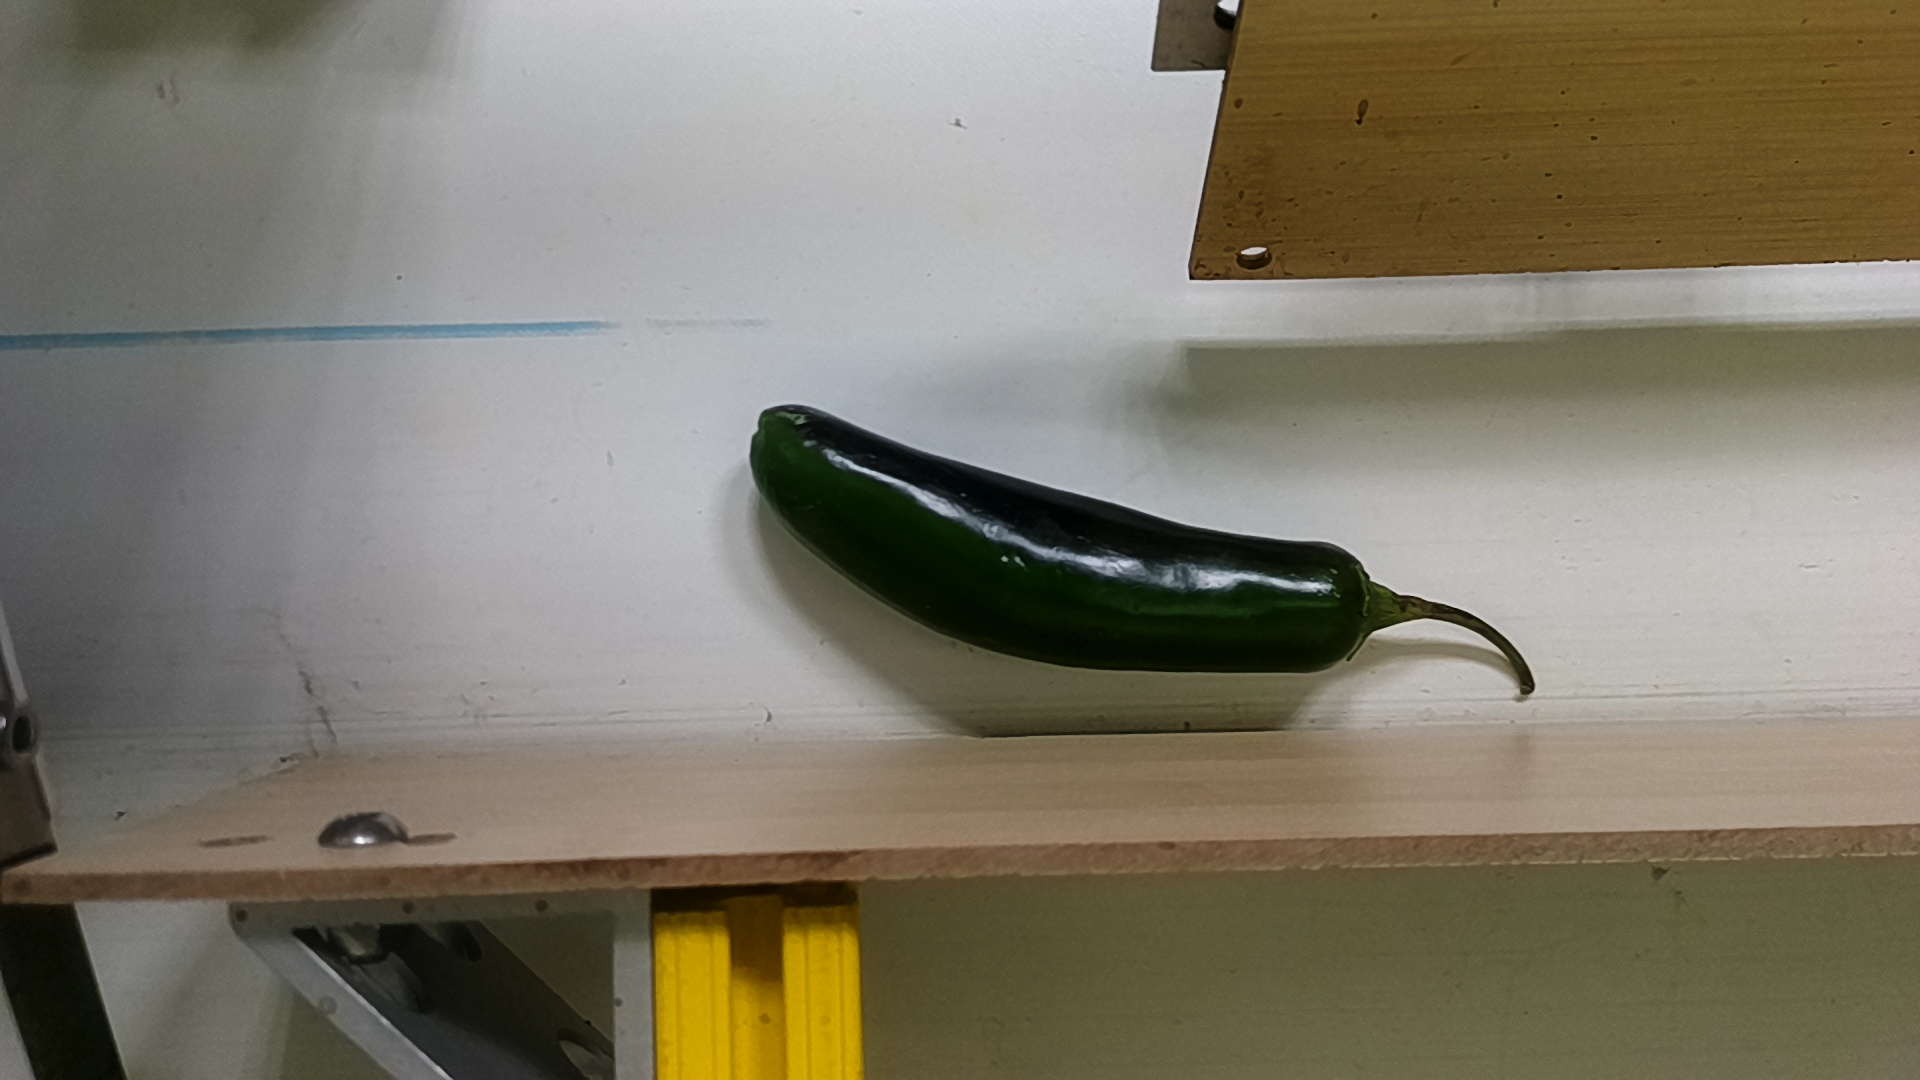Cut Point: (1312, 534, 1395, 673)
